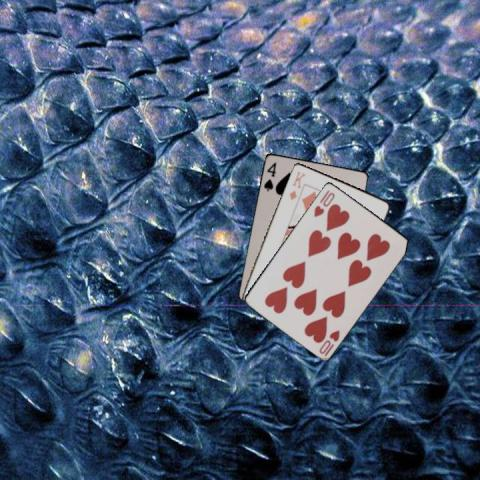10h: (311, 187, 336, 218), (316, 327, 341, 357)
4s: (261, 159, 277, 193)
Kd: (286, 168, 307, 201)
